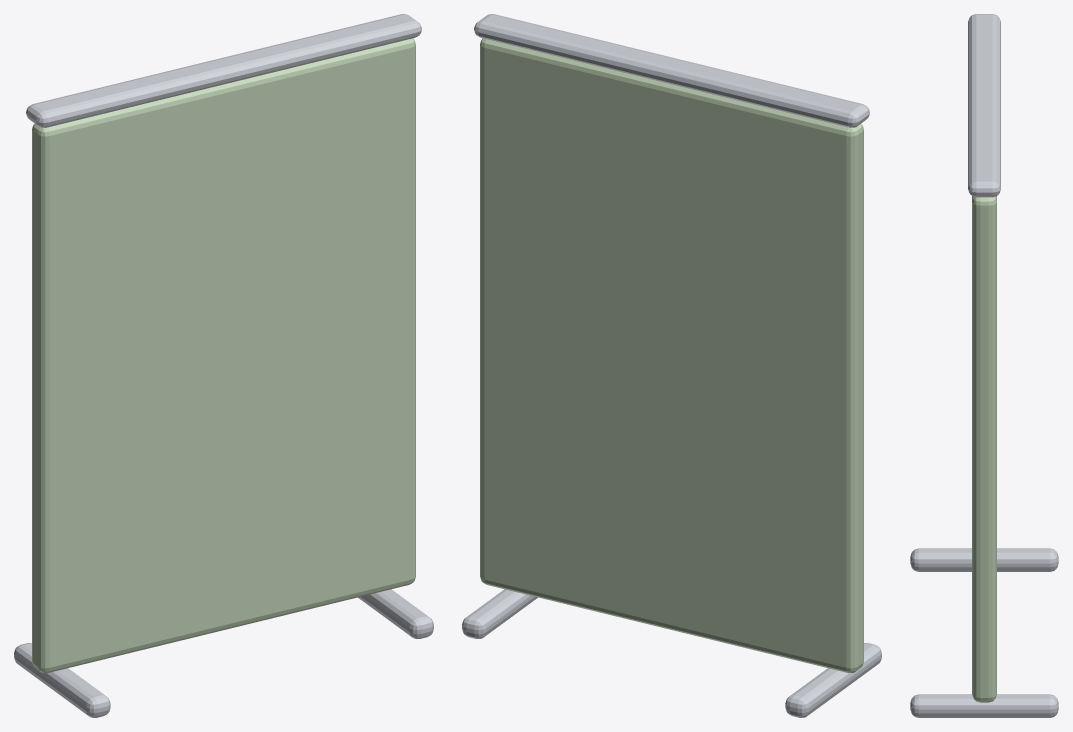
Rendered from Partition.fbx.
3 renders of one model, left to right at view 1: azimuth 30°, elevation 25°; view 2: azimuth 150°, elevation 25°; view 3: azimuth 270°, elevation 25°, orthographic. The views are drawn at different scales.
Visible parts, largest first — view 1: Partition; view 2: Partition; view 3: Partition.
Part boxes in pixels (<box>): Partition: <box>14,14,433,717</box>; Partition: <box>462,14,881,717</box>; Partition: <box>910,14,1058,717</box>.
Bounding box in the file's own units: 1 × 1.46 × 0.36.
